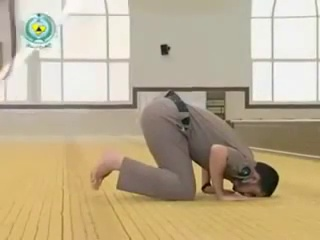sujud: (86, 92, 277, 201)
